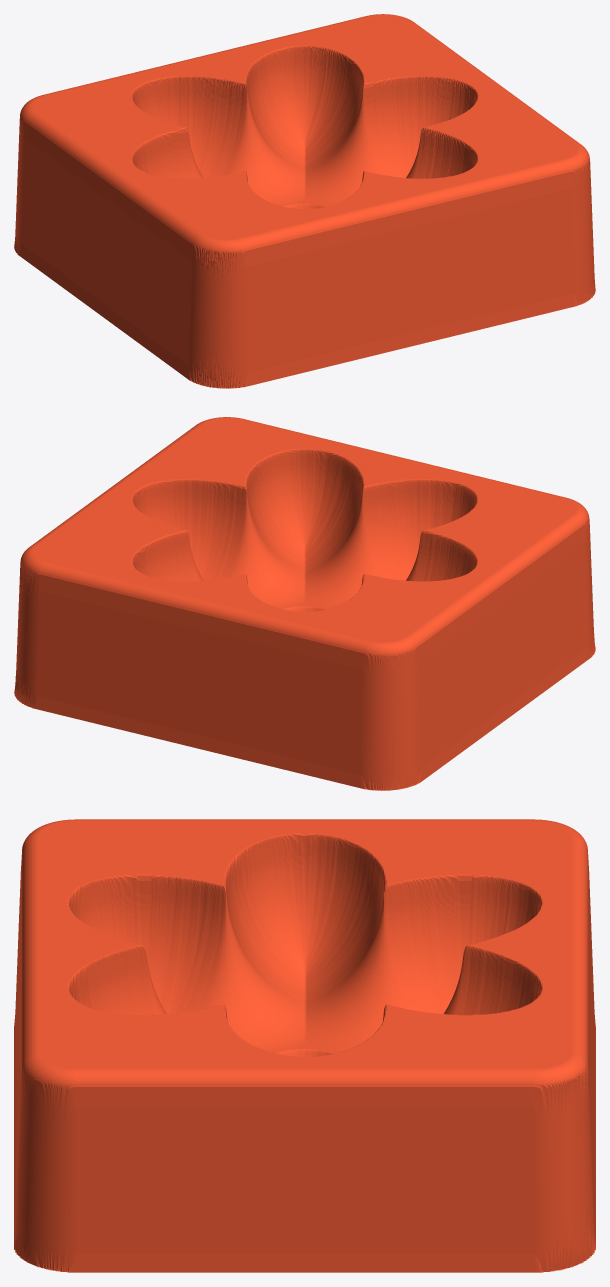
The model's file is mold.glb.
The picture shows the model from 3 angles, top to bottom: view 1: azimuth 30°, elevation 25°; view 2: azimuth 150°, elevation 25°; view 3: azimuth 270°, elevation 25°; orthographic projection. The views are drawn at different scales.
Visible parts, largest first — view 1: geometry_0; view 2: geometry_0; view 3: geometry_0.
Boxes of the visible parts, x1,y1,x2,y2 form: geometry_0: (14,14,595,388); geometry_0: (14,417,595,790); geometry_0: (14,819,595,1272).
Bounding box in the file's own units: 0.0924 × 0.031 × 0.0846.
